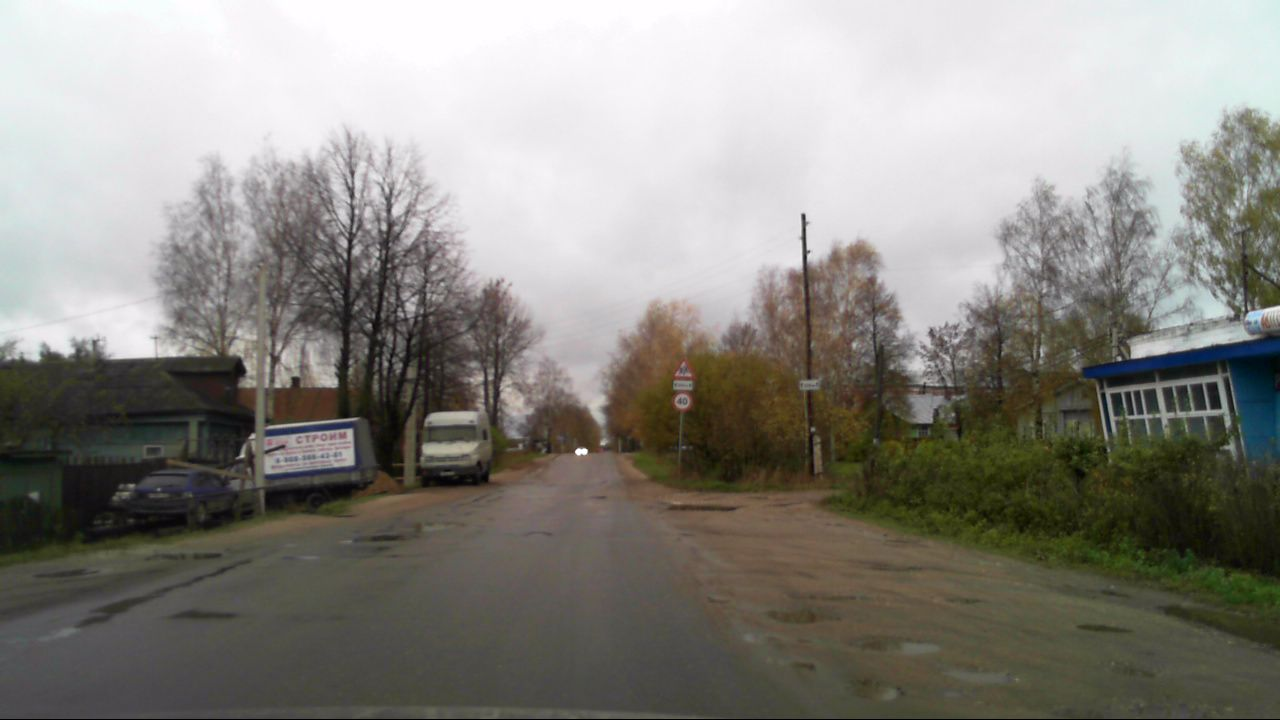speed_warning_40: (672, 391, 693, 412)
